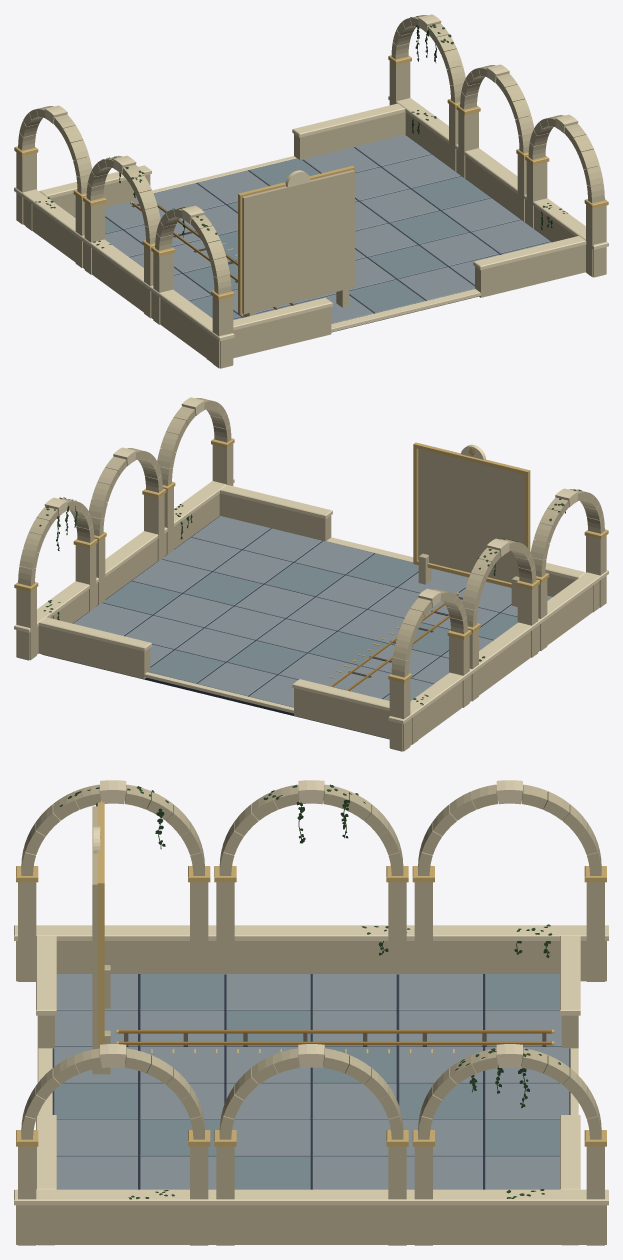
File: shadow-room3-v01.glb
3 renders of one model, top to bottom at view 1: azimuth 30°, elevation 25°; view 2: azimuth 150°, elevation 25°; view 3: azimuth 270°, elevation 25°, orthographic. The views are drawn at different scales.
Visible parts, largest first — view 1: Shadow sandstone 4, Shadow floor mist 2, Shadow sandstone light 3, Shadow floor mist alt 1, Shadow gold 5, Shadow grout 0, Shadow ivy 9; view 2: Shadow sandstone 4, Shadow floor mist 2, Shadow sandstone light 3, Shadow floor mist alt 1, Shadow gold 5, Shadow grout 0, Shadow brass 6, Shadow ivy 9; view 3: Shadow sandstone 4, Shadow floor mist 2, Shadow sandstone light 3, Shadow floor mist alt 1, Shadow gold 5, Shadow grout 0, Shadow brass 6, Shadow ivy 9.
Part boxes in pixels (left/top/right/bottom): Shadow sandstone 4: left=16, top=15, right=606, bottom=368; Shadow floor mist 2: left=105, top=134, right=551, bottom=323; Shadow sandstone light 3: left=14, top=14, right=608, bottom=341; Shadow floor mist alt 1: left=72, top=158, right=490, bottom=318; Shadow gold 5: left=14, top=55, right=608, bottom=315; Shadow grout 0: left=105, top=135, right=551, bottom=332; Shadow ivy 9: left=35, top=16, right=567, bottom=248; Shadow sandstone 4: left=16, top=398, right=606, bottom=751; Shadow floor mist 2: left=73, top=516, right=552, bottom=707; Shadow sandstone light 3: left=14, top=397, right=608, bottom=724; Shadow floor mist alt 1: left=102, top=553, right=517, bottom=683; Shadow gold 5: left=14, top=438, right=608, bottom=682; Shadow grout 0: left=42, top=516, right=517, bottom=739; Shadow brass 6: left=330, top=593, right=458, bottom=690; Shadow ivy 9: left=39, top=489, right=581, bottom=705; Shadow sandstone 4: left=16, top=784, right=606, bottom=1245; Shadow floor mist 2: left=53, top=974, right=569, bottom=1189; Shadow sandstone light 3: left=14, top=780, right=608, bottom=1205; Shadow floor mist alt 1: left=53, top=974, right=559, bottom=1189; Shadow gold 5: left=16, top=802, right=606, bottom=1146; Shadow grout 0: left=52, top=974, right=570, bottom=1189; Shadow brass 6: left=118, top=1030, right=551, bottom=1045; Shadow ivy 9: left=59, top=784, right=560, bottom=1199.
Size of the model in its own units: 15.12 by 5.72 by 13.8.
